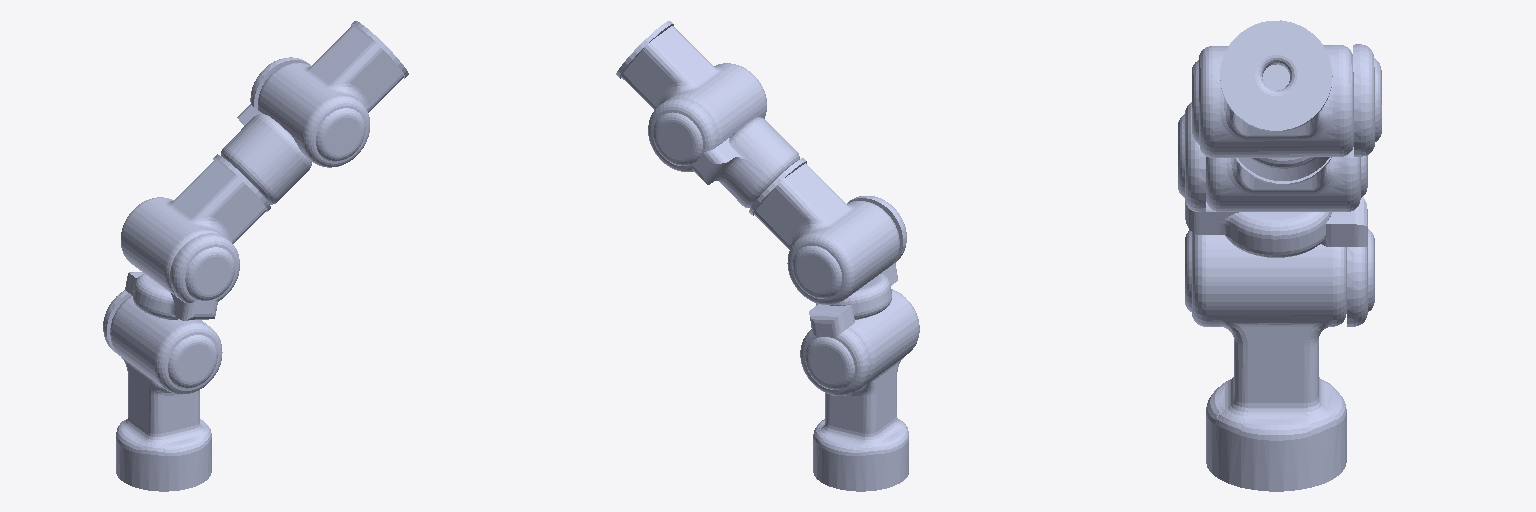
URDF robot description (Arm):
<?xml version="1.0" encoding="utf-8"?>
<robot
  name="Arm">
  <link
    name="arn_base">
    <inertial>
      <origin
        xyz="0.092843 0.11115 0.19139"
        rpy="0 0 0" />
      <mass
        value="1.1258" />
      <inertia
        ixx="0.0046576"
        ixy="-4.2427E-10"
        ixz="-1.9958E-10"
        iyy="0.0013278"
        iyz="-0.00014449"
        izz="0.00438" />
    </inertial>
    <visual>
      <origin
        xyz="0 0 0"
        rpy="0 0 0" />
      <geometry>
        <mesh
          filename="package://rover/meshes/arn_base.STL" />
      </geometry>
      <material
        name="">
        <color
          rgba="0.79216 0.81961 0.93333 1" />
      </material>
    </visual>
    <collision>
      <origin
        xyz="0 0 0"
        rpy="0 0 0" />
      <geometry>
        <mesh
          filename="package://rover/meshes/arn_base.STL" />
      </geometry>
    </collision>
  </link>
  <link
    name="bicep">
    <inertial>
      <origin
        xyz="-9.5491E-08 0.050024 0.069997"
        rpy="0 0 0" />
      <mass
        value="0.41299" />
      <inertia
        ixx="0.0015642"
        ixy="-1.2115E-11"
        ixz="1.9733E-10"
        iyy="0.00097868"
        iyz="-0.00038761"
        izz="0.0008296" />
    </inertial>
    <visual>
      <origin
        xyz="0 0 0"
        rpy="0 0 0" />
      <geometry>
        <mesh
          filename="package://rover/meshes/bicep.STL" />
      </geometry>
      <material
        name="">
        <color
          rgba="0.79216 0.81961 0.93333 1" />
      </material>
    </visual>
    <collision>
      <origin
        xyz="0 0 0"
        rpy="0 0 0" />
      <geometry>
        <mesh
          filename="package://rover/meshes/bicep.STL" />
      </geometry>
    </collision>
  </link>
  <joint
    name="shoulder_joint"
    type="continuous">
    <origin
      xyz="0.092843 -0.11914 0.16839"
      rpy="1.5708 0.18321 0" />
    <parent
      link="arn_base" />
    <child
      link="bicep" />
    <axis
      xyz="0 0 1" />
  </joint>
  <link
    name="bottom_wrist">
    <inertial>
      <origin
        xyz="-4.0905E-08 -0.02109 0.055"
        rpy="0 0 0" />
      <mass
        value="0.73266" />
      <inertia
        ixx="0.0015748"
        ixy="2.1317E-09"
        ixz="-1.5E-10"
        iyy="0.00084305"
        iyz="1.4705E-11"
        izz="0.0013045" />
    </inertial>
    <visual>
      <origin
        xyz="0 0 0"
        rpy="0 0 0" />
      <geometry>
        <mesh
          filename="package://rover/meshes/bottom_wrist.STL" />
      </geometry>
      <material
        name="">
        <color
          rgba="0.79216 0.81961 0.93333 1" />
      </material>
    </visual>
    <collision>
      <origin
        xyz="0 0 0"
        rpy="0 0 0" />
      <geometry>
        <mesh
          filename="package://rover/meshes/bottom_wrist.STL" />
      </geometry>
    </collision>
  </link>
  <joint
    name="bottom_wrist_joint"
    type="continuous">
    <origin
      xyz="0 0.1 0.01"
      rpy="0 0 2.3852" />
    <parent
      link="bicep" />
    <child
      link="bottom_wrist" />
    <axis
      xyz="0 0 1" />
  </joint>
  <link
    name="elbow">
    <inertial>
      <origin
        xyz="-1.0046E-08 -0.10496 -0.01015"
        rpy="0 0 0" />
      <mass
        value="0.4633" />
      <inertia
        ixx="0.0010638"
        ixy="-4.2139E-12"
        ixz="2.3982E-10"
        iyy="0.00063995"
        iyz="-0.00019133"
        izz="0.00074255" />
    </inertial>
    <visual>
      <origin
        xyz="0 0 0"
        rpy="0 0 0" />
      <geometry>
        <mesh
          filename="package://rover/meshes/elbow.STL" />
      </geometry>
      <material
        name="">
        <color
          rgba="0.79216 0.81961 0.93333 1" />
      </material>
    </visual>
    <collision>
      <origin
        xyz="0 0 0"
        rpy="0 0 0" />
      <geometry>
        <mesh
          filename="package://rover/meshes/elbow.STL" />
      </geometry>
    </collision>
  </link>
  <joint
    name="elbow_joint"
    type="continuous">
    <origin
      xyz="0 -0.046157 0.055"
      rpy="0 -0.011377 0" />
    <parent
      link="bottom_wrist" />
    <child
      link="elbow" />
    <axis
      xyz="0 1 0" />
  </joint>
  <link
    name="top_wrist">
    <inertial>
      <origin
        xyz="8.1204E-09 -0.02109 -0.0050001"
        rpy="0 0 0" />
      <mass
        value="0.73266" />
      <inertia
        ixx="0.0015748"
        ixy="2.8411E-09"
        ixz="-7.6201E-11"
        iyy="0.00084305"
        iyz="4.5363E-10"
        izz="0.0013045" />
    </inertial>
    <visual>
      <origin
        xyz="0 0 0"
        rpy="0 0 0" />
      <geometry>
        <mesh
          filename="package://rover/meshes/top_wrist.STL" />
      </geometry>
      <material
        name="">
        <color
          rgba="0.79216 0.81961 0.93333 1" />
      </material>
    </visual>
    <collision>
      <origin
        xyz="0 0 0"
        rpy="0 0 0" />
      <geometry>
        <mesh
          filename="package://rover/meshes/top_wrist.STL" />
      </geometry>
    </collision>
  </link>
  <joint
    name="top_wrist_joint"
    type="continuous">
    <origin
      xyz="0 -0.15448 0"
      rpy="3.1416 0 3.1319" />
    <parent
      link="elbow" />
    <child
      link="top_wrist" />
    <axis
      xyz="0 0 1" />
  </joint>

<!--############################## ARM TRANSMISSION ########################################-->

<transmission name="shoulder_trans" type="SimpleTransmission">
  <type>transmission_interface/SimpleTransmission</type>
  <actuator name="shoulder_motor">
   <hardwareInterface>hardware_interface/PositionJointInterface</hardwareInterface>
   <mechanicalReduction>1</mechanicalReduction>
  </actuator>
  <joint name="shoulder_joint">
   <hardwareInterface>hardware_interface/PositionJointInterface</hardwareInterface>
  </joint>
</transmission>

<transmission name="bottom_wrist_trans" type="SimpleTransmission">
  <type>transmission_interface/SimpleTransmission</type>
  <actuator name="bottom_wrist_motor">
   <hardwareInterface>hardware_interface/PositionJointInterface</hardwareInterface>
   <mechanicalReduction>1</mechanicalReduction>
  </actuator>
  <joint name="bottom_wrist_joint">
   <hardwareInterface>hardware_interface/PositionJointInterface</hardwareInterface>
  </joint>
</transmission>

<transmission name="elbow_trans" type="SimpleTransmission">
  <type>transmission_interface/SimpleTransmission</type>
  <actuator name="elbow_motor">
   <hardwareInterface>hardware_interface/PositionJointInterface</hardwareInterface>
   <mechanicalReduction>1</mechanicalReduction>
  </actuator>
  <joint name="elbow_joint">
   <hardwareInterface>hardware_interface/PositionJointInterface</hardwareInterface>
  </joint>
</transmission>

<transmission name="top_wrist_trans" type="SimpleTransmission">
  <type>transmission_interface/SimpleTransmission</type>
  <actuator name="top_wrist_motor">
   <hardwareInterface>hardware_interface/PositionJointInterface</hardwareInterface>
   <mechanicalReduction>1</mechanicalReduction>
  </actuator>
  <joint name="top_wrist_joint">
   <hardwareInterface>hardware_interface/PositionJointInterface</hardwareInterface>
  </joint>
</transmission>

<!--######################################################################-->
</robot>

--- Facts derived from the render (not from the file) ---
3 views of the same robot in one strip: view 1: azimuth 30°, elevation 25°; view 2: azimuth 150°, elevation 25°; view 3: azimuth 270°, elevation 25° (orthographic).
Model Arm with 5 links and 4 joints (4 continuous), rooted at arn_base, posed all joints at 0.
Links seen in each view (by area): view 1: arn_base, top_wrist, bottom_wrist, bicep, elbow; view 2: arn_base, bottom_wrist, bicep, elbow, top_wrist; view 3: arn_base, top_wrist, bicep, bottom_wrist, elbow.
Boxes of the visible links, <box> form: arn_base: <box>110,296,222,491</box>; top_wrist: <box>258,21,408,167</box>; bottom_wrist: <box>121,154,270,296</box>; bicep: <box>103,233,239,388</box>; elbow: <box>221,57,365,204</box>; arn_base: <box>813,289,919,491</box>; bottom_wrist: <box>749,158,899,304</box>; bicep: <box>792,196,906,395</box>; elbow: <box>648,98,799,207</box>; top_wrist: <box>616,21,766,145</box>; arn_base: <box>1192,232,1346,491</box>; top_wrist: <box>1198,20,1353,157</box>; bicep: <box>1178,102,1374,326</box>; bottom_wrist: <box>1206,147,1360,211</box>; elbow: <box>1192,44,1381,180</box>.
Bounding box of the posed robot: 0.3347 × 0.1452 × 0.4573 m (x, y, z).
Meshes: 5 distinct files referenced, 5 mesh visuals loaded (5 binary STL).